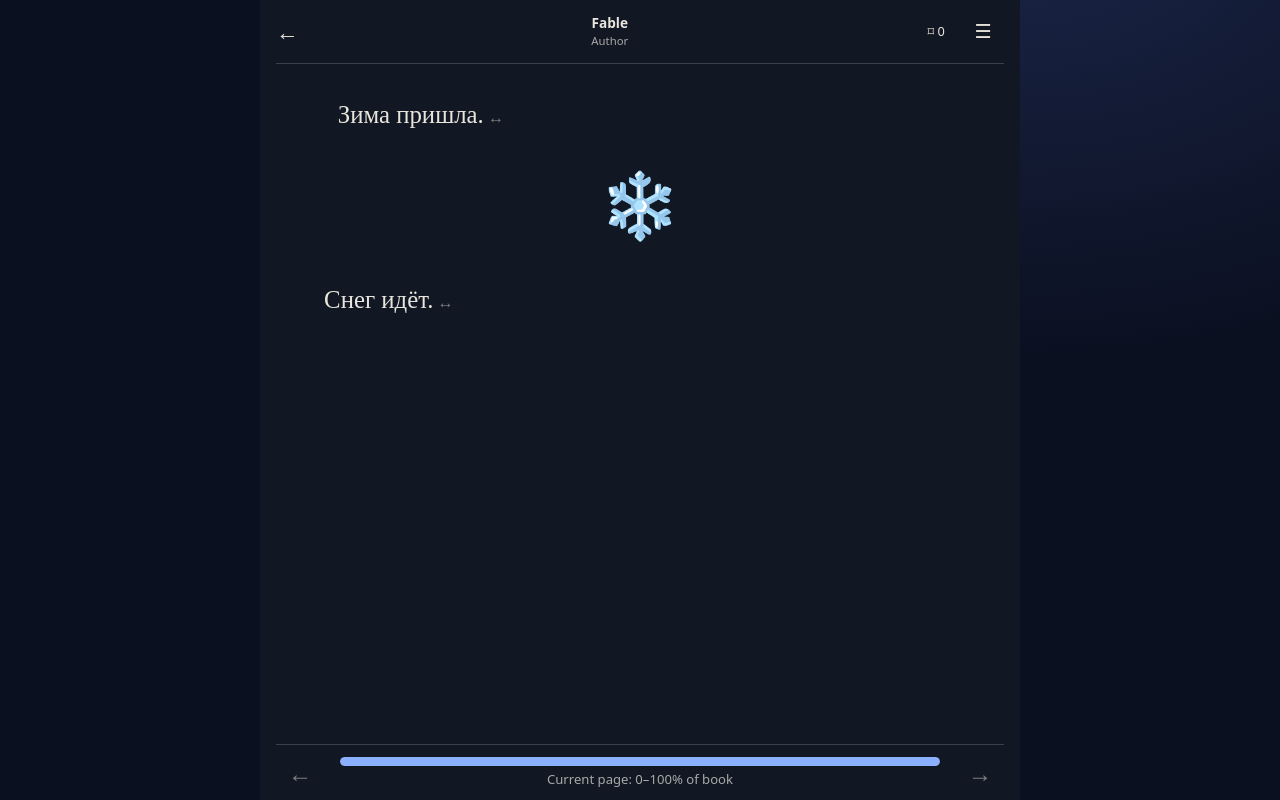
ReaderView › reveals one translation at a time
Click the button with class "reader-reveal" next to "пришла".
click(496, 117)  # box [486,106,506,128]
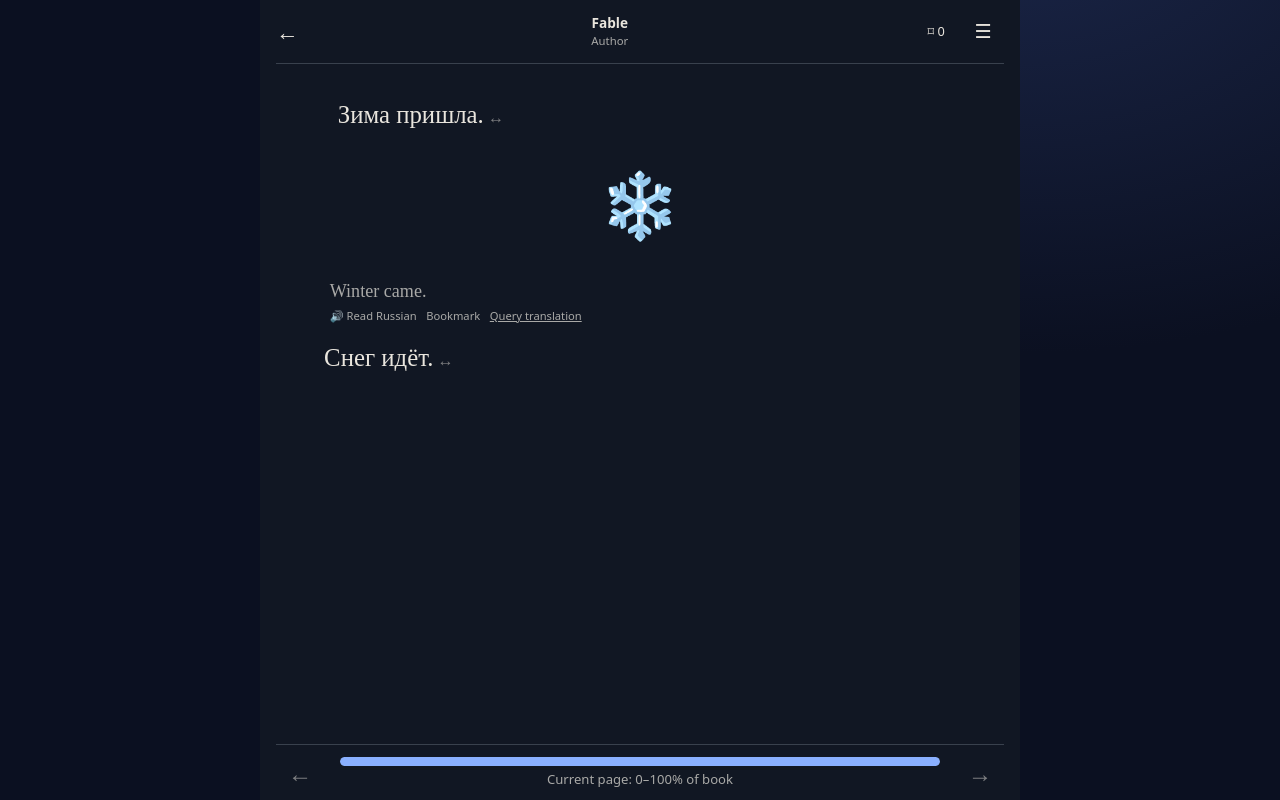
Result: the text "Winter came" is shown at [330,281,426,301]
Click the button with class "reader-reveal" next to "идёт".
click(445, 360)  # box [435,349,455,371]
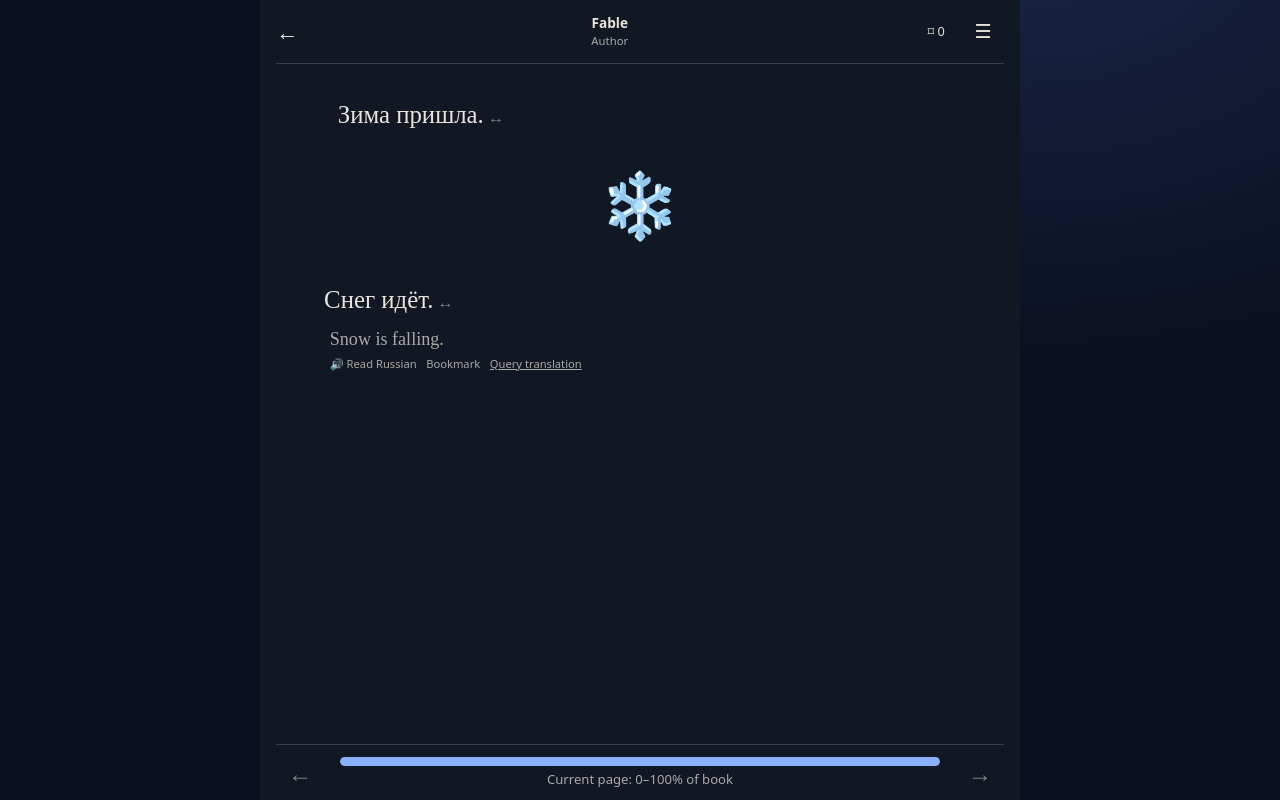
Result: the text "Snow is falling" is shown at [330,329,444,349]
Result: the text "Winter came" is gone
